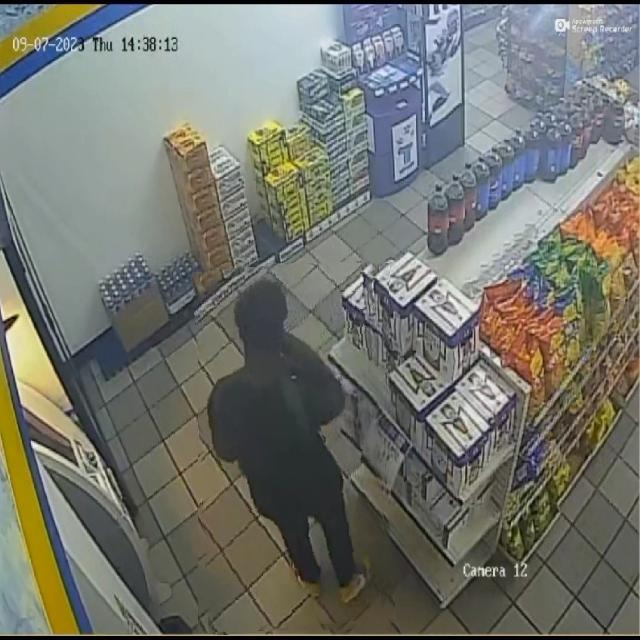normal: (198, 263, 390, 633)
